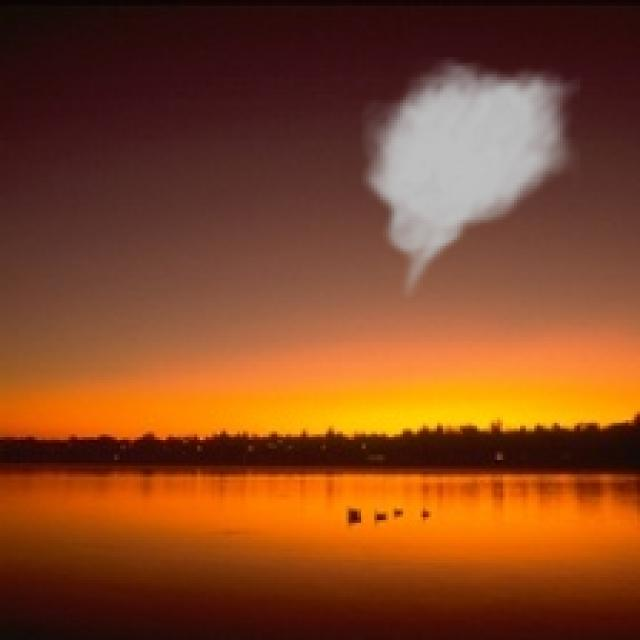smoke: (357, 57, 583, 303)
